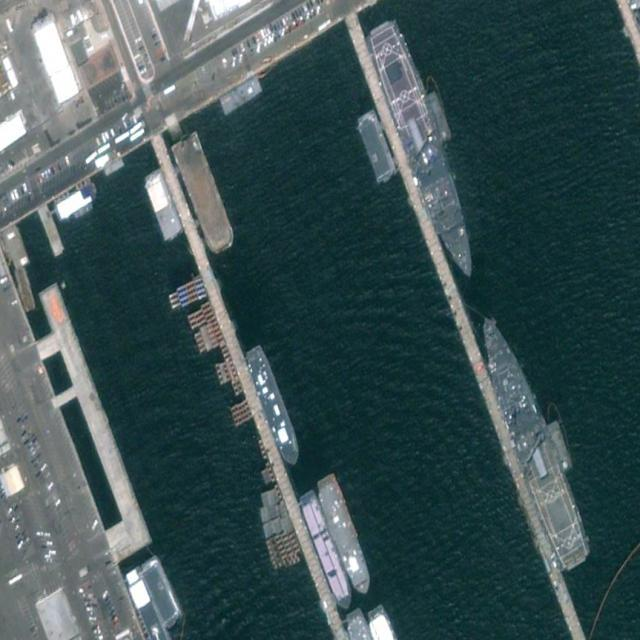Landing: (362, 13, 490, 287), (470, 302, 596, 576)
Other Ship: (314, 469, 376, 601), (296, 487, 357, 614), (245, 341, 305, 470)
